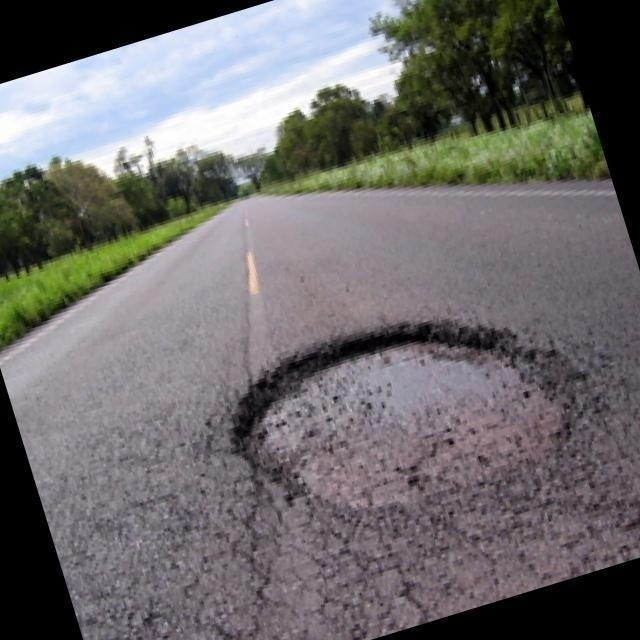pothole: (240, 298, 590, 518)
